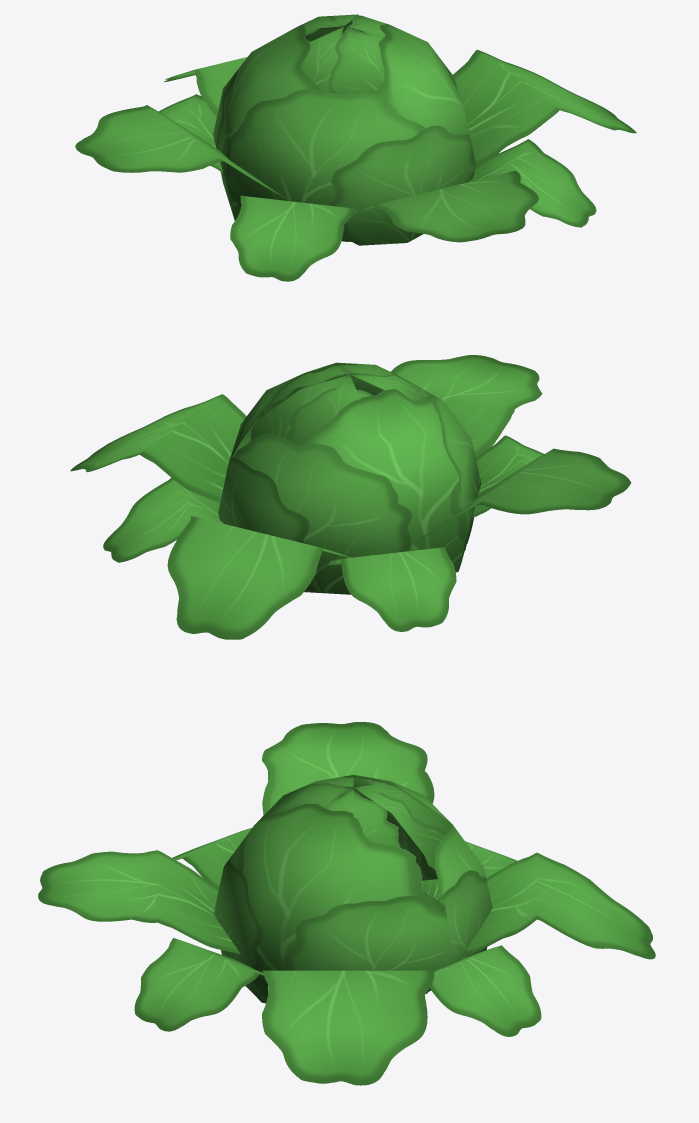
Rendered from cabbage.fbx.
The picture shows the model from 3 angles, top to bottom: view 1: azimuth 30°, elevation 25°; view 2: azimuth 150°, elevation 25°; view 3: azimuth 270°, elevation 25°; orthographic projection. The views are drawn at different scales.
Parts seen in each view (by area): view 1: polySurface1; view 2: polySurface1; view 3: polySurface1.
Part boxes in pixels (left/top/right/bottom): polySurface1: left=75, top=14, right=636, bottom=281; polySurface1: left=70, top=355, right=631, bottom=639; polySurface1: left=38, top=722, right=655, bottom=1085.
Bounding box in the file's own units: 16.55 × 4.66 × 16.11.
